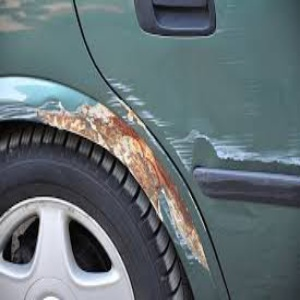door_scratch: (101, 78, 300, 178)
